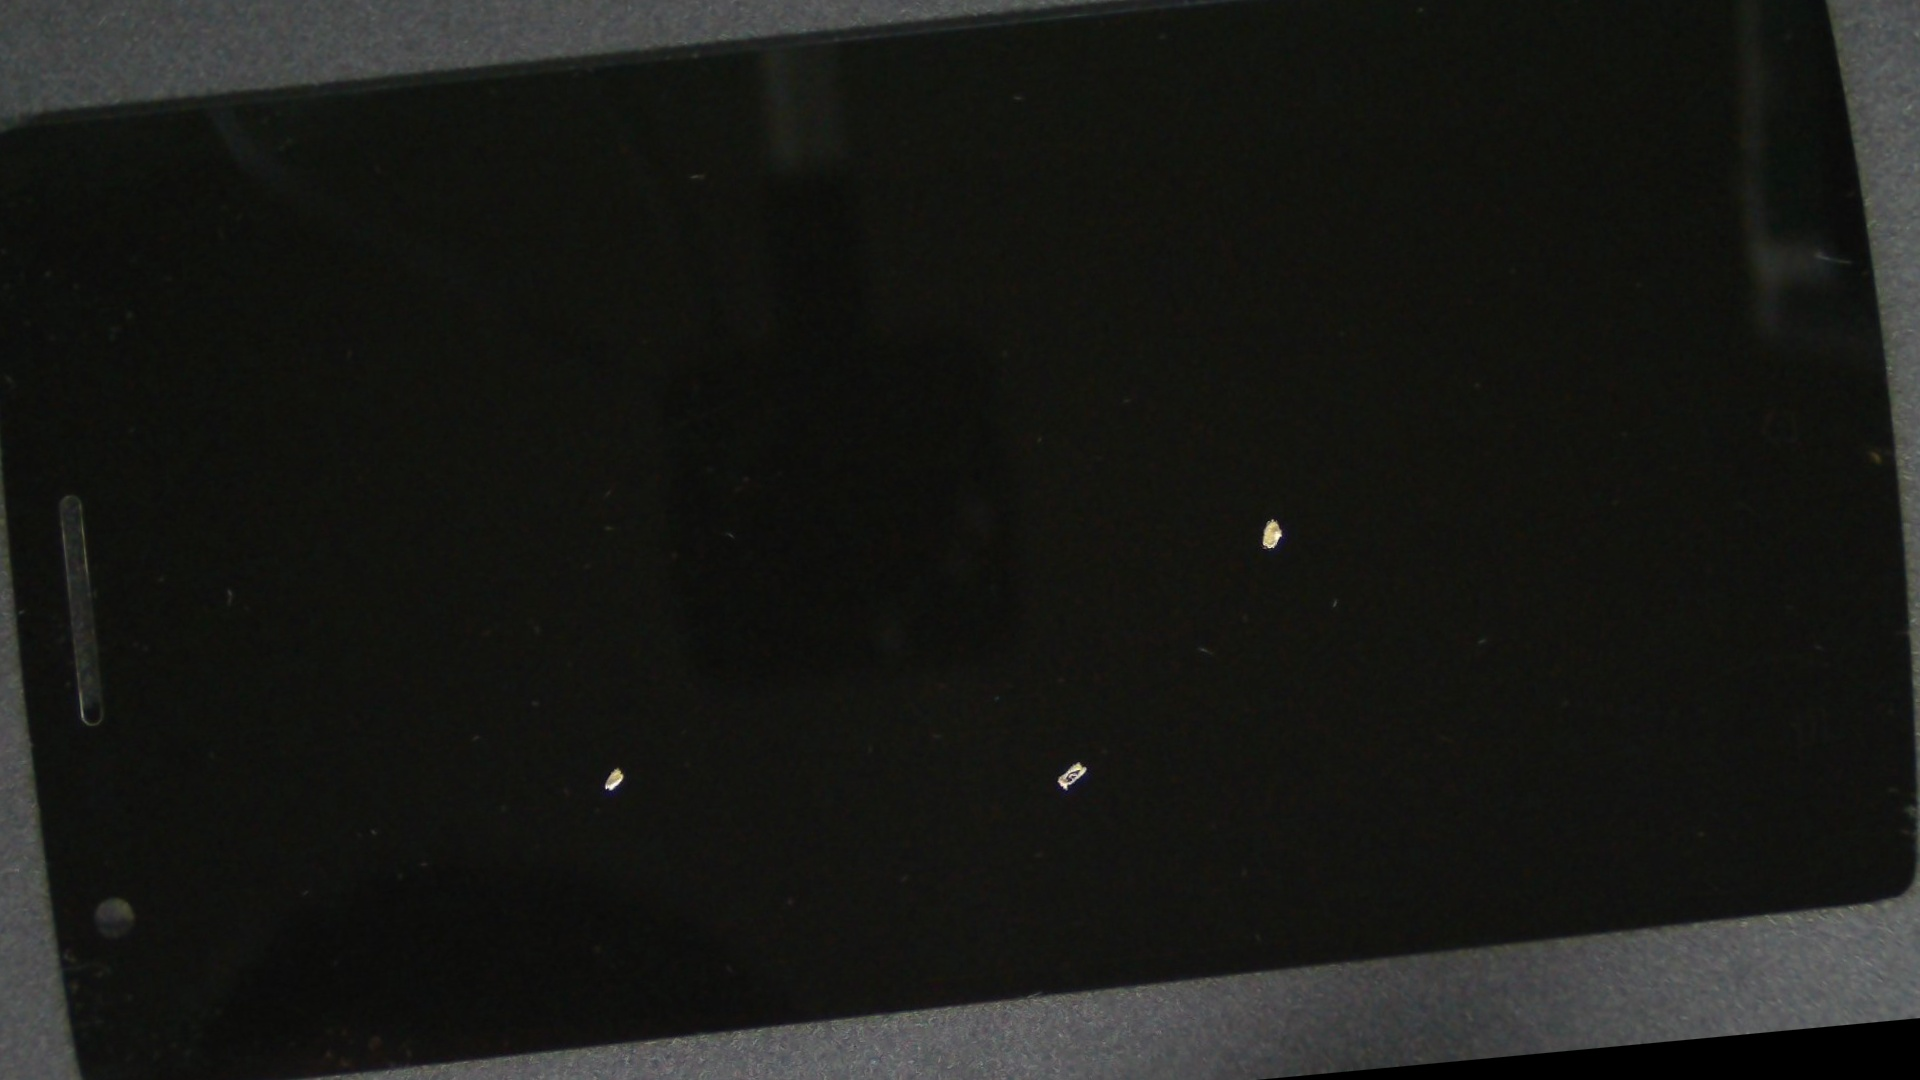oil: (566, 125, 1920, 911), (468, 268, 1675, 1080), (237, 313, 988, 1080)
